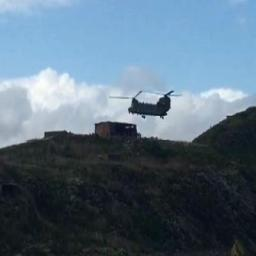helicopter: (108, 90, 181, 121)
